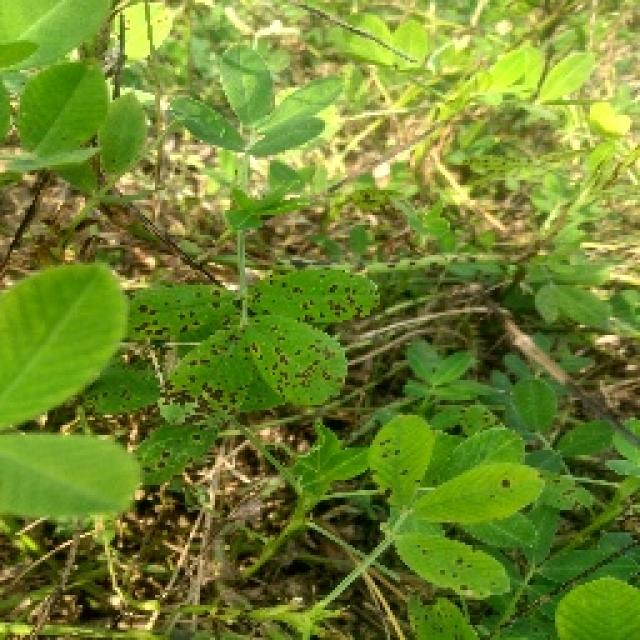Yellowish: (282, 378, 520, 626), (130, 242, 363, 406), (21, 337, 196, 465), (392, 580, 491, 640)
